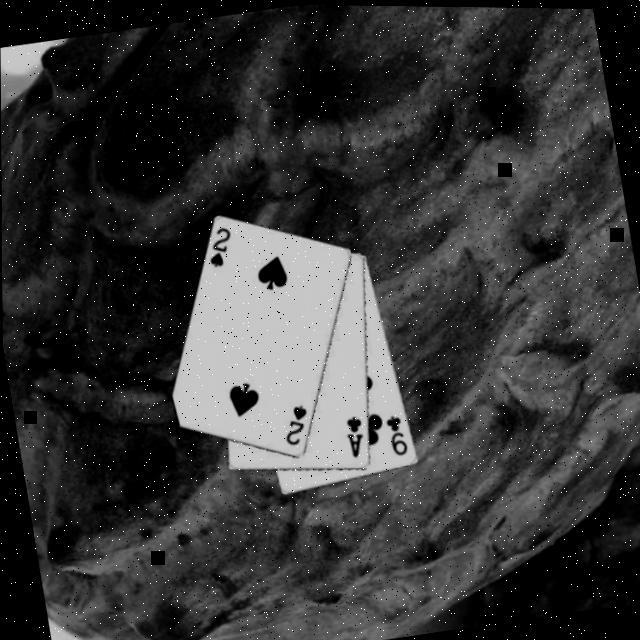2S: (279, 398, 316, 446), (202, 220, 239, 268)
9C: (383, 407, 412, 457)
AC: (342, 409, 371, 458)
